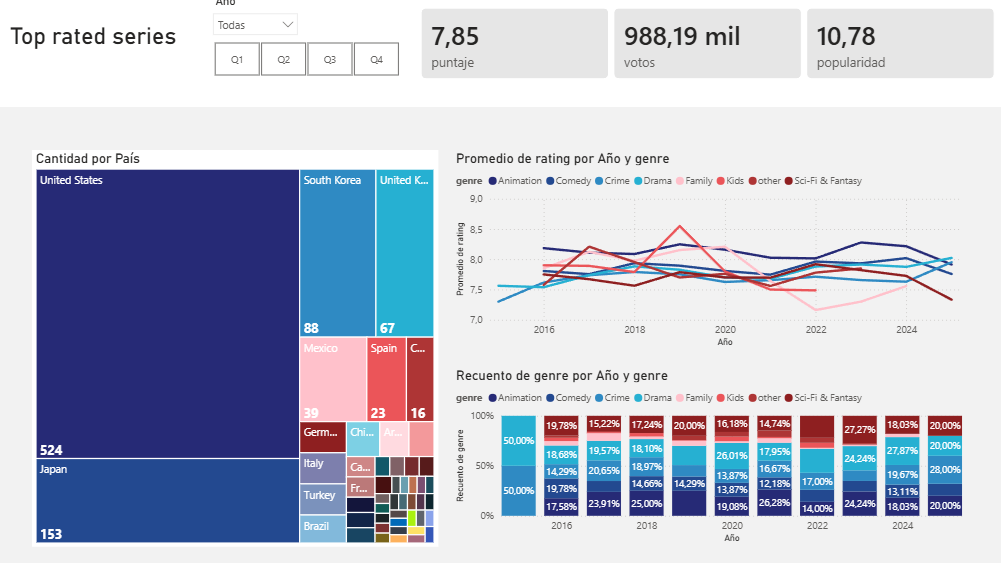

The page's visual inventory and layout, read from the dashboard file:
{"tool":"powerbi","page":{"name":"Página 1","canvas":[1280,720],"ordinal":0},"visuals":[{"type":"slicer","fields":{"Values":["TablaCalendario.Año"]},"box":[273.8,0,126.2,66.2],"z":0},{"type":"slicer","fields":{"Values":["TablaCalendario.Trimestre"]},"box":[260,57.5,280,55],"z":1000},{"type":"treemap","title":"Cantidad por País","fields":{"Group":["tv_series_clean.country_origin"],"Values":["CountNonNull(tv_series_clean.title)"]},"box":[57.5,198.8,507.5,496.2],"z":2000},{"type":"cardVisual","fields":{"Data":["Avg(tv_series_clean.rating)","Sum(tv_series_clean.votos)","Avg(tv_series_clean.popularity)"]},"box":[527.5,5,751.2,121.2],"z":3000},{"type":"hundredPercentStackedColumnChart","fields":{"Category":["TablaCalendario.Date.Variación.Jerarquía de fechas.Año","TablaCalendario.Date.Variación.Jerarquía de fechas.Mes","tv_series_clean.primary_genre"],"Y":["CountNonNull(tv_series_clean.primary_genre)"],"Series":["tv_series_clean.primary_genre"]},"box":[582.5,470,642.5,225],"z":4000},{"type":"lineChart","fields":{"Category":["TablaCalendario.Date.Variación.Jerarquía de fechas.Año"],"Series":["tv_series_clean.primary_genre"],"Y":["Avg(tv_series_clean.rating)"]},"box":[582.5,198.8,642.5,251.2],"z":5000},{"type":"card","fields":{"Values":["Tabla.tituloReporte"]},"box":[15,15,245,111.2],"z":6000}]}

Visuals, with their boxes in screenshot pixels (x1, y1, x2, y2), scaled from the page's 1280x720 canvas onto the 1001x563 screenshot:
slicer - TablaCalendario.Año: rect(214, 0, 313, 52)
slicer - TablaCalendario.Trimestre: rect(203, 45, 422, 88)
"Cantidad por País" treemap: rect(45, 155, 442, 543)
cardVisual - Avg(tv_series_clean.rating) x Sum(tv_series_clean.votos): rect(413, 4, 1000, 99)
hundredPercentStackedColumnChart - TablaCalendario.Date.Variación.Jerarquía de fechas.Año x TablaCalendario.Date.Variación.Jerarquía de fechas.Mes: rect(456, 368, 958, 543)
lineChart - TablaCalendario.Date.Variación.Jerarquía de fechas.Año x tv_series_clean.primary_genre: rect(456, 155, 958, 352)
card - Tabla.tituloReporte: rect(12, 12, 203, 99)
